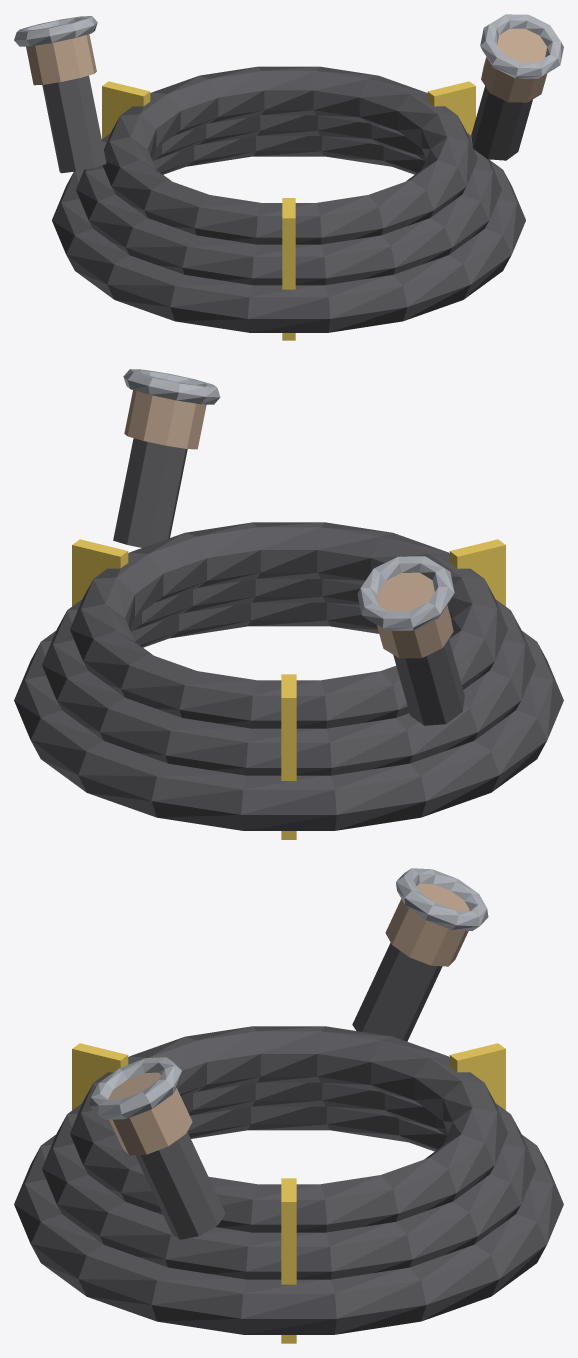
Rendered from prop_cable_coil.glb.
3 views of the same model, one above another, from view 1: azimuth 30°, elevation 25°; view 2: azimuth 150°, elevation 25°; view 3: azimuth 270°, elevation 25° (orthographic). The views are drawn at different scales.
Visible parts, largest first — view 1: prop_cable_coil; view 2: prop_cable_coil; view 3: prop_cable_coil.
Boxes of the visible parts, box(x1,y1,x2,y2) form: prop_cable_coil: box(14, 14, 563, 340); prop_cable_coil: box(14, 369, 563, 839); prop_cable_coil: box(14, 868, 563, 1343).
Size of the model in its own units: 0.4856 by 0.2655 by 0.492.
